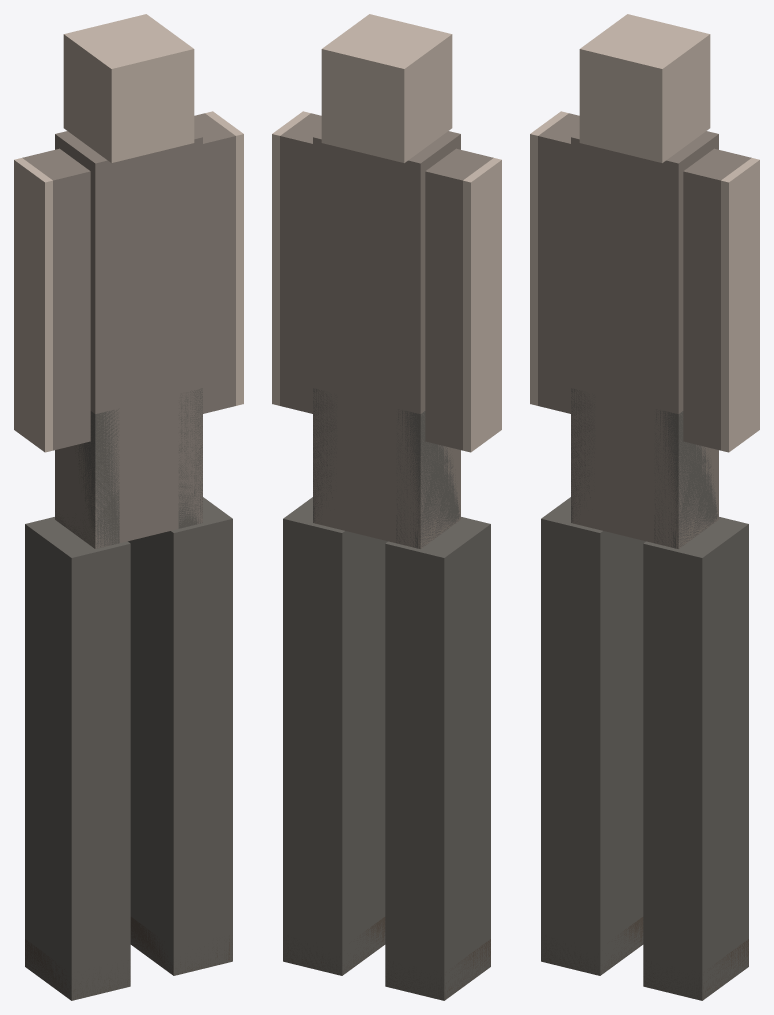
Rendered from char_assist.glb.
3 views of the same model, side by side, from view 1: azimuth 30°, elevation 25°; view 2: azimuth 150°, elevation 25°; view 3: azimuth 330°, elevation 25° (orthographic).
Visible parts, largest first — view 1: char_assist; view 2: char_assist; view 3: char_assist.
Part boxes in pixels (<box>): char_assist: <box>14,14,243,1000</box>; char_assist: <box>272,14,501,1000</box>; char_assist: <box>530,14,759,1000</box>.
Bounding box in the file's own units: 0.37 × 1.64 × 0.1538.
